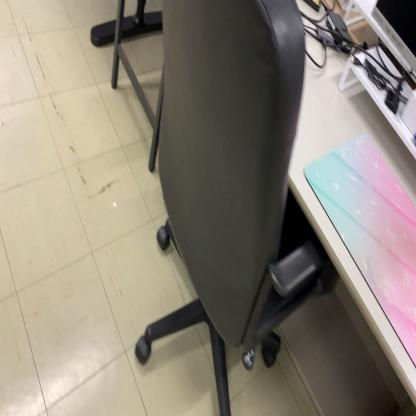chair: (134, 0, 324, 416)
